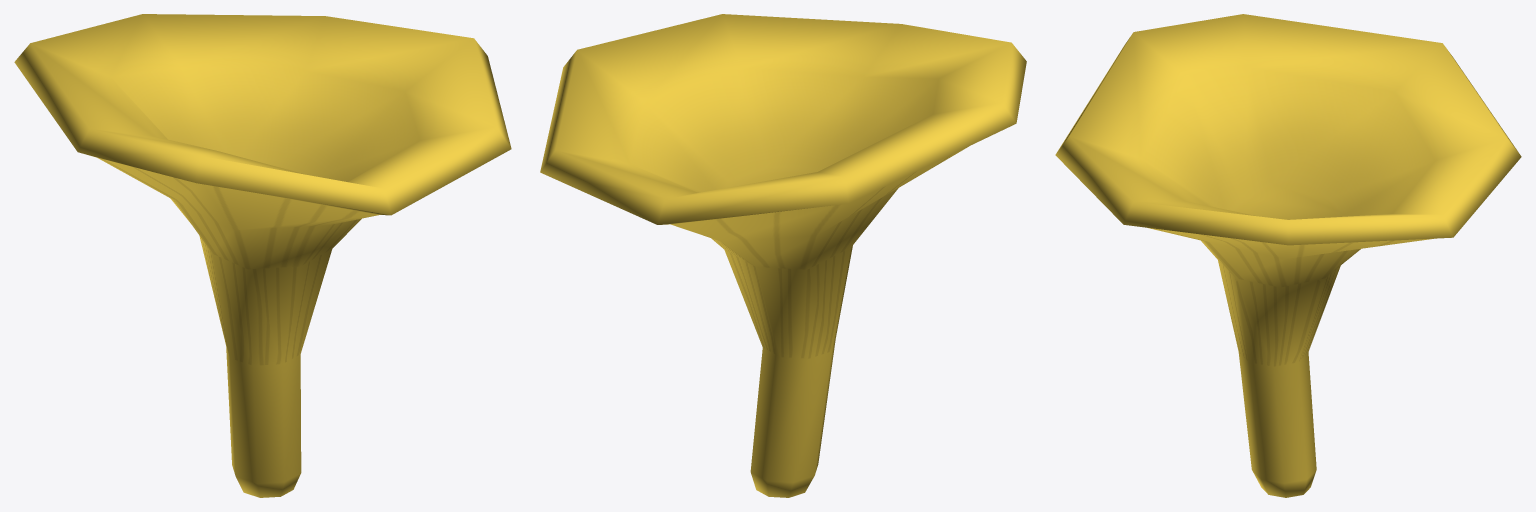
The model's file is ChantarelleMushroom.fbx.
3 renders of one model, left to right at view 1: azimuth 30°, elevation 25°; view 2: azimuth 150°, elevation 25°; view 3: azimuth 270°, elevation 25°, orthographic. The views are drawn at different scales.
Visible parts, largest first — view 1: SM_chanterelle; view 2: SM_chanterelle; view 3: SM_chanterelle.
Part boxes in pixels (box(x1,y1,x2,y2)): SM_chanterelle: box(14, 14, 511, 497); SM_chanterelle: box(540, 14, 1026, 497); SM_chanterelle: box(1055, 14, 1521, 497).
Bounding box in the file's own units: 106 × 97.35 × 104.
